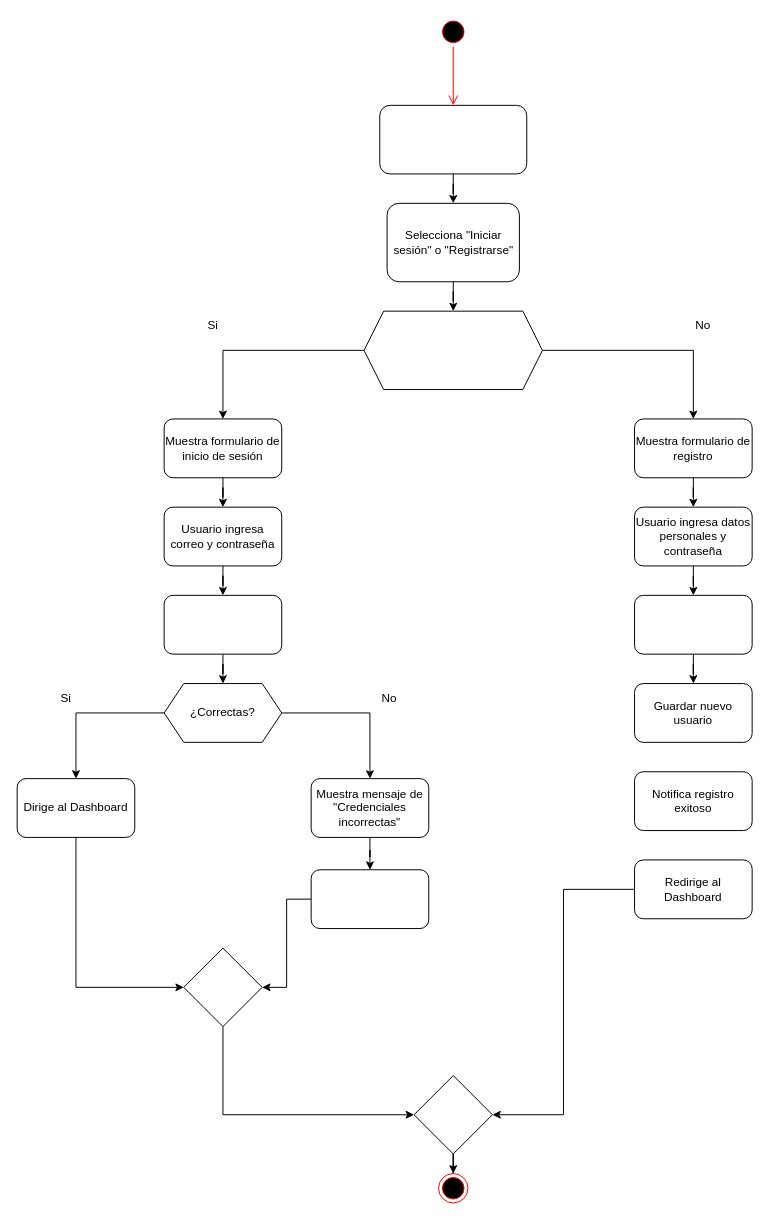
Some shapes in this 769 by 1220 pixel diagram are drawn without their labels. Each missing label, with the centre of its shape:
Permitir reintentar: the point at 369,899
Sistema valida credenciales: the point at 222,624
Usuario abre aplicación: the point at 453,139
Valida formato del correo y campos requeridos: the point at 693,624
¿Selecciona iniciar sesión?: the point at 452,350
